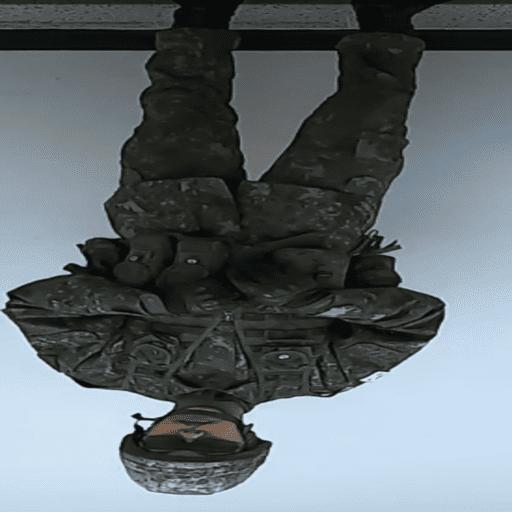korea army: (1, 22, 446, 495)
